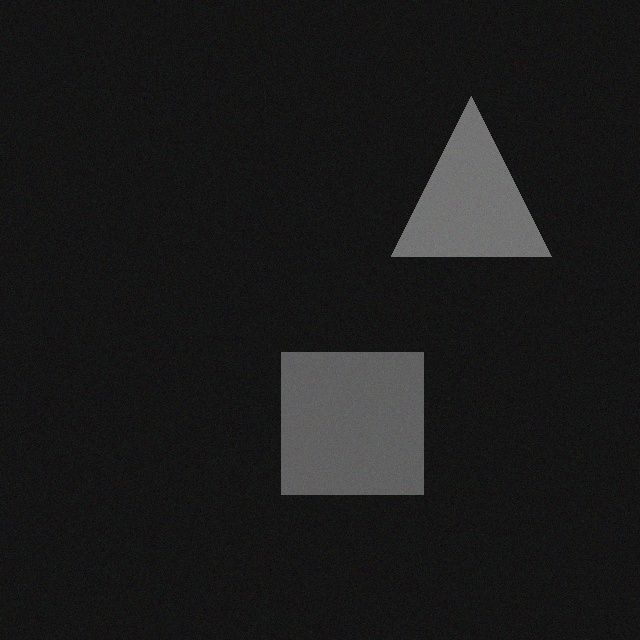square: (286, 360, 428, 502)
triangle: (396, 104, 556, 264)
